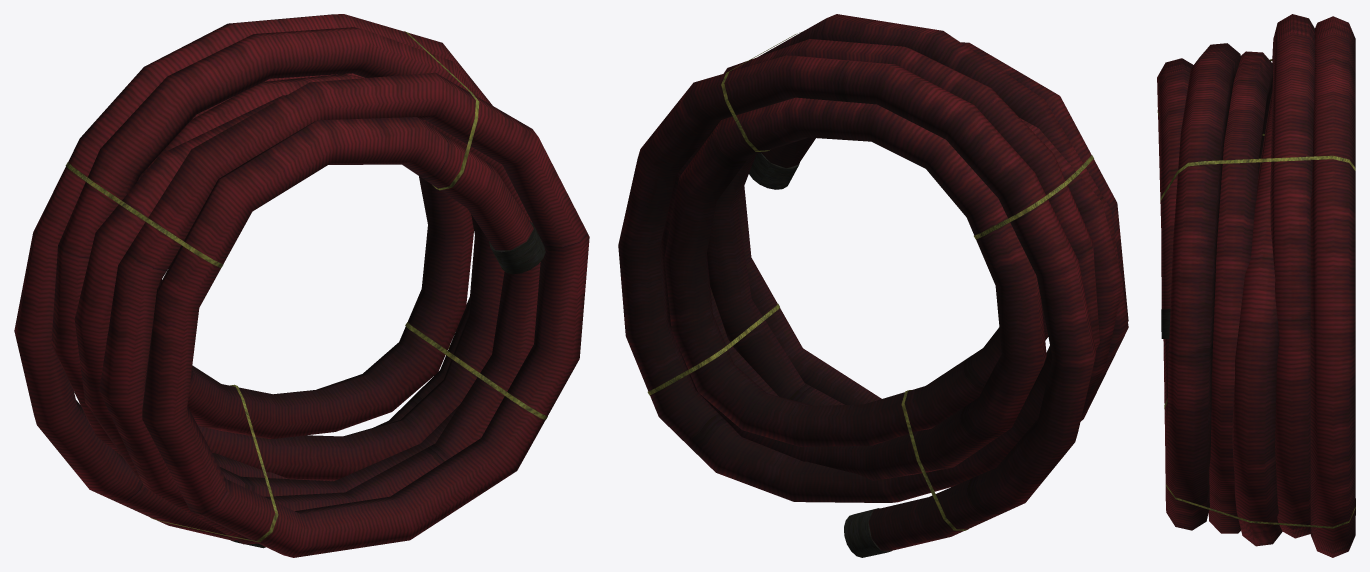
The model's file is p6_industrial_tubing_01_LOD0.obj.
3 renders of one model, left to right at view 1: azimuth 30°, elevation 25°; view 2: azimuth 150°, elevation 25°; view 3: azimuth 270°, elevation 25°, orthographic. The views are drawn at different scales.
Visible parts, largest first — view 1: mtl_p6_industrial_tubing_02, mtl_p6_industrial_tubing_01; view 2: mtl_p6_industrial_tubing_02, mtl_p6_industrial_tubing_01; view 3: mtl_p6_industrial_tubing_02, mtl_p6_industrial_tubing_01.
Boxes of the visible parts, <box> form: mtl_p6_industrial_tubing_02: <box>14,14,589,557</box>; mtl_p6_industrial_tubing_01: <box>65,31,547,548</box>; mtl_p6_industrial_tubing_02: <box>618,14,1128,550</box>; mtl_p6_industrial_tubing_01: <box>647,32,1093,557</box>; mtl_p6_industrial_tubing_02: <box>1157,14,1355,557</box>; mtl_p6_industrial_tubing_01: <box>1157,59,1355,528</box>.
Bounding box in the file's own units: 135 × 136 × 49.43.
